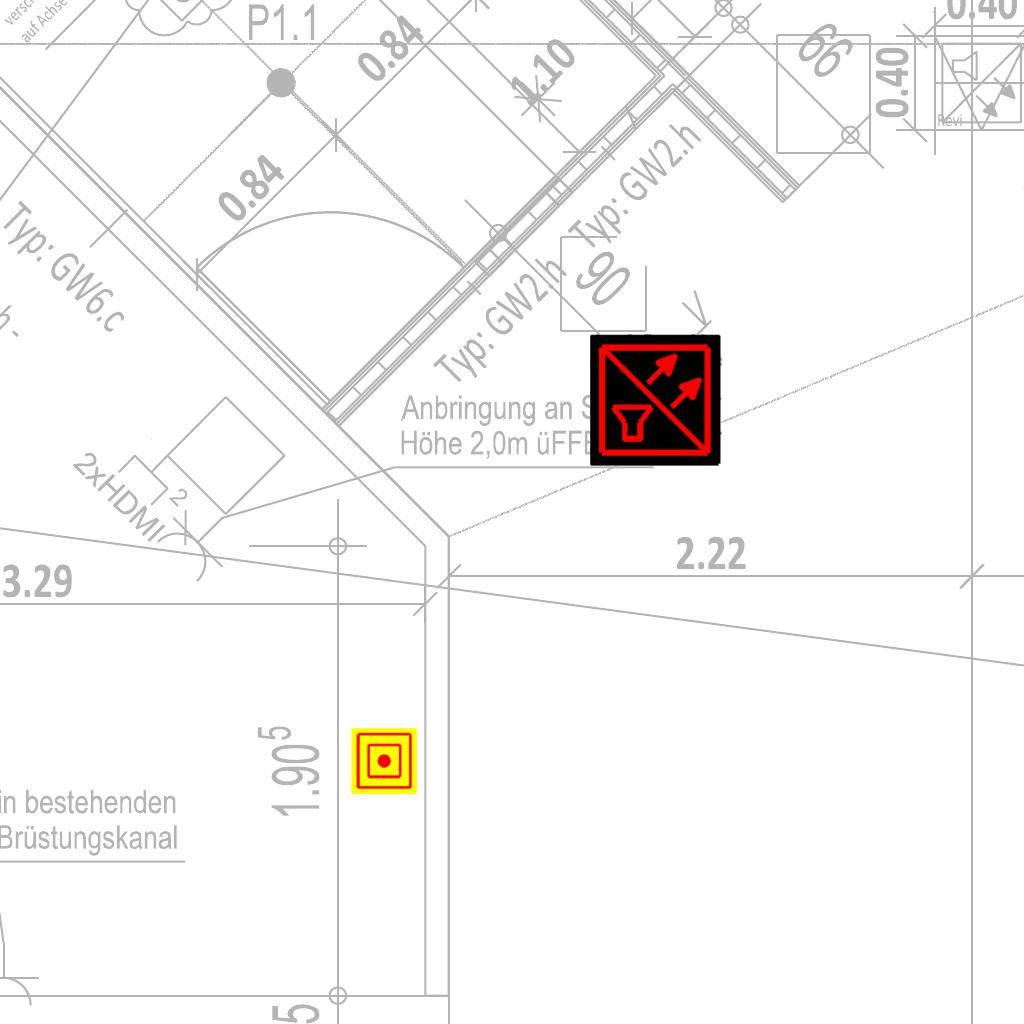NAM-Nichtautomatischer_Melder: (351, 728, 417, 794)
OKW_Multisensormelder_(Kombination_optischer_Rauch-Kahlenmonoxid_Waerme-Melder): (590, 334, 722, 466)
